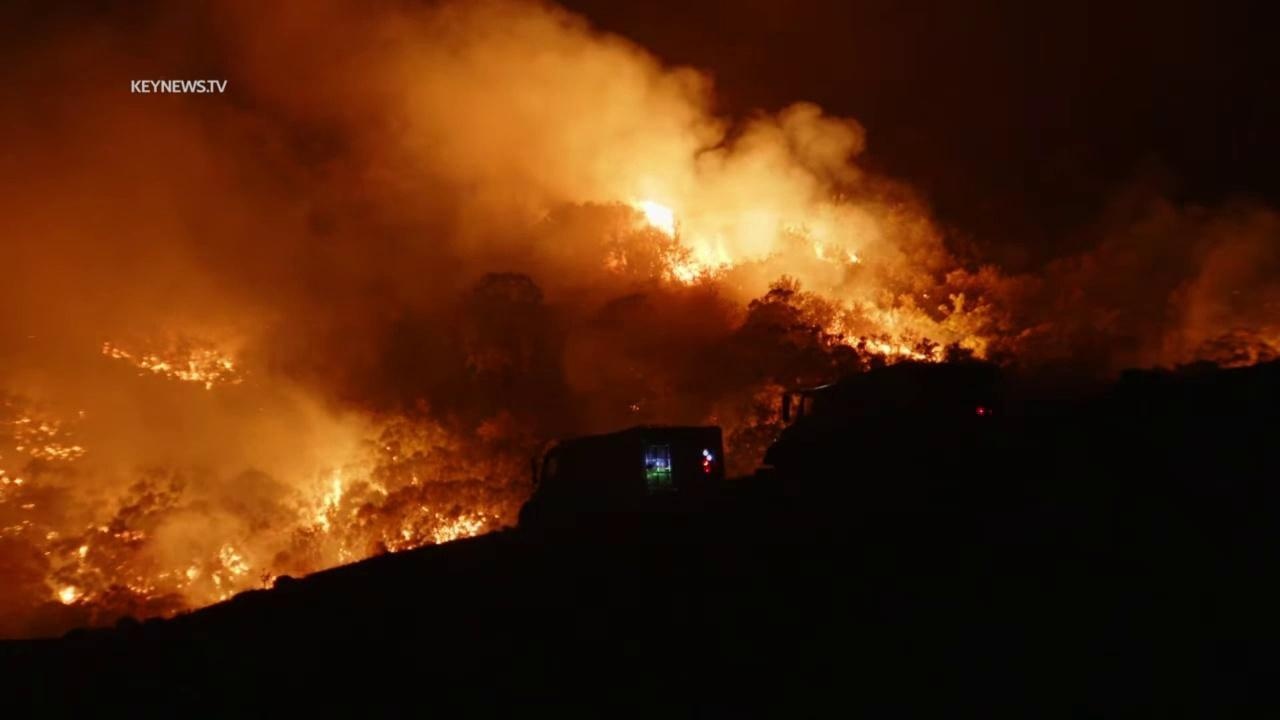fire: (98, 338, 238, 393), (381, 495, 500, 554), (631, 200, 703, 287), (2, 412, 91, 465), (843, 333, 928, 362), (212, 543, 251, 602), (312, 468, 343, 534), (54, 582, 102, 608), (185, 564, 205, 588), (812, 241, 829, 260), (77, 544, 93, 562), (847, 250, 862, 264), (630, 404, 640, 412)
smoke: (0, 0, 1280, 649)
